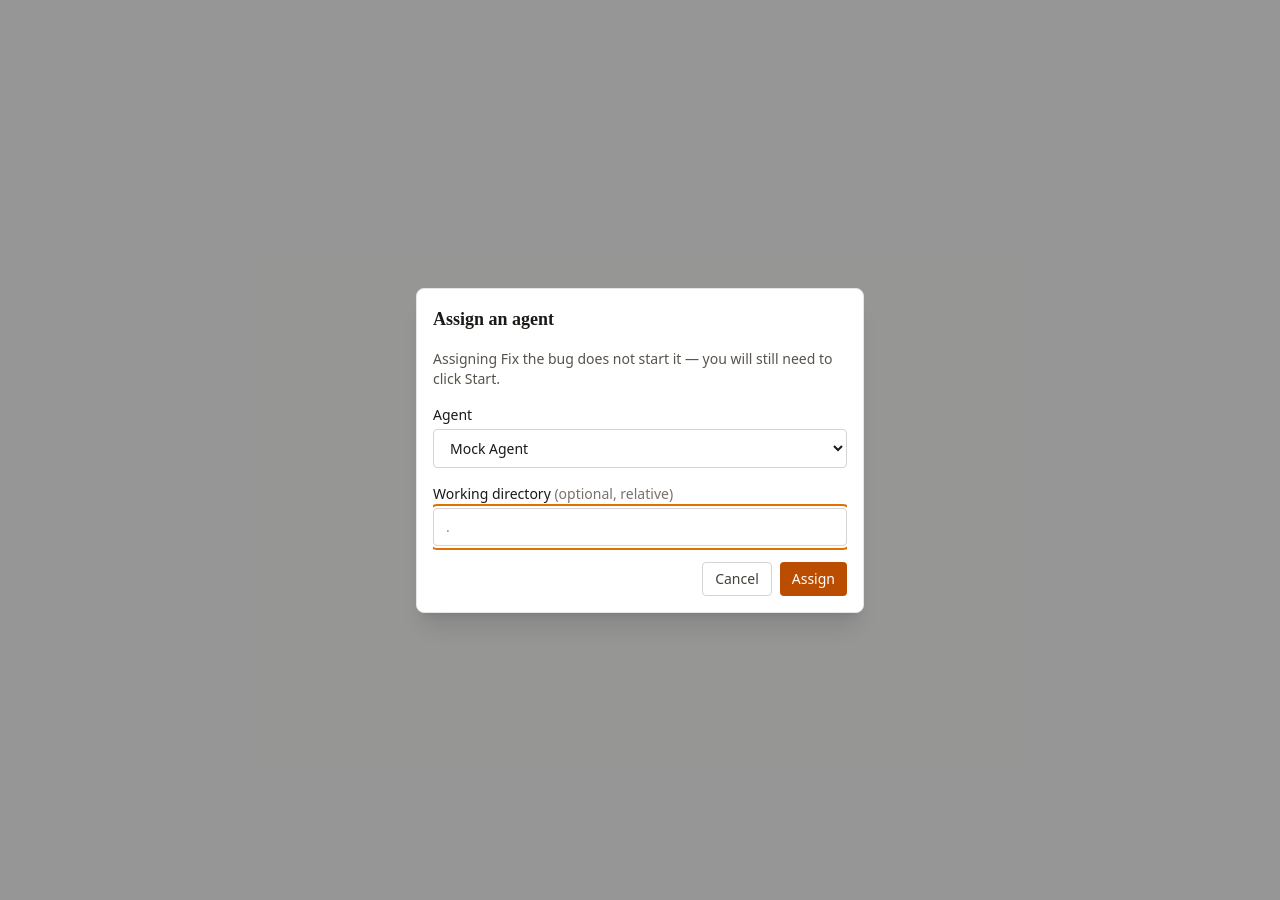
it: AssignDialog › on failure, preserves entered values and shows a safe error
Type "src" into the field labelled "Working directory (optional, relative)". click: (640, 526)
box: [433,508,847,546]
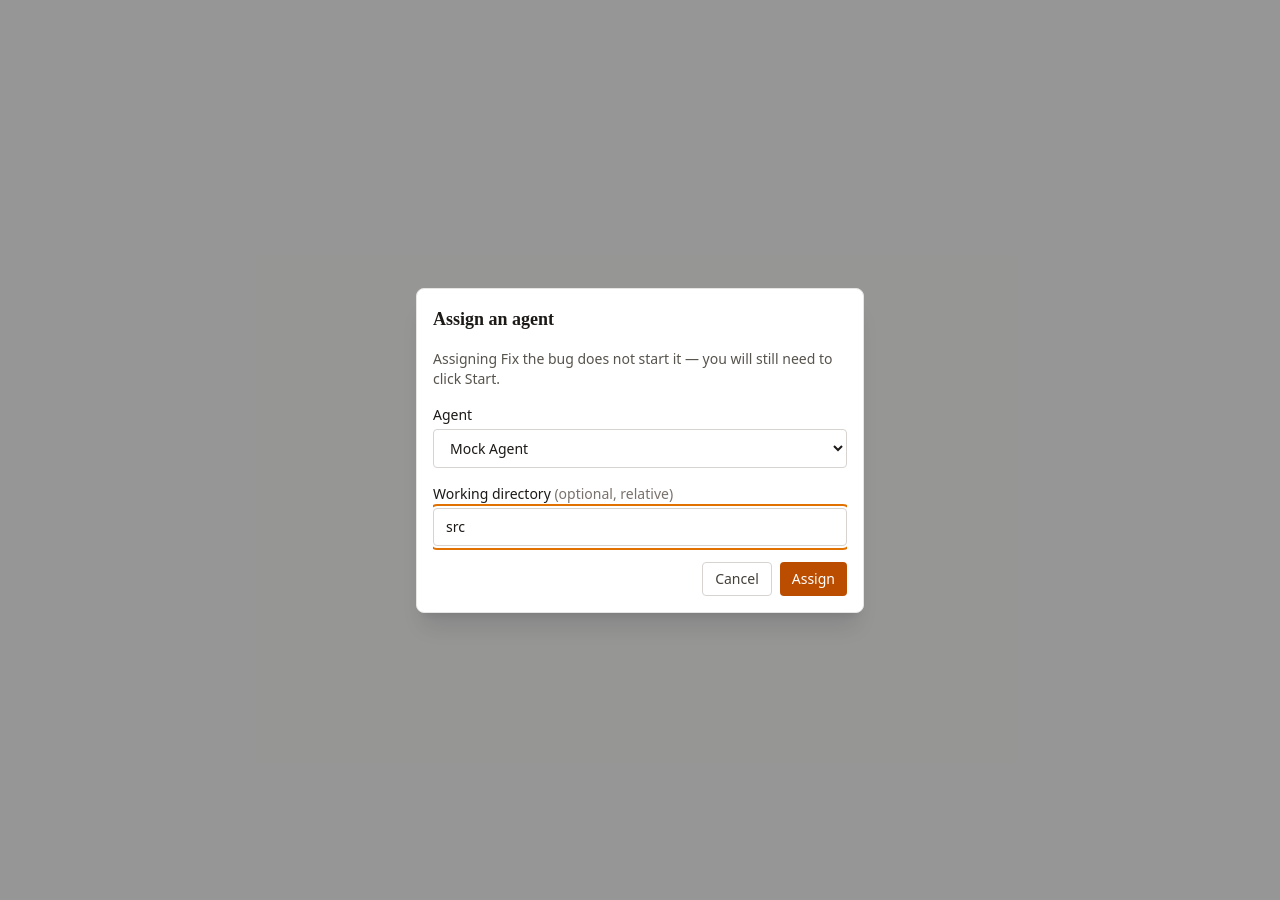
Click the button "Assign". click: (813, 578)
box: [780,562,847,596]
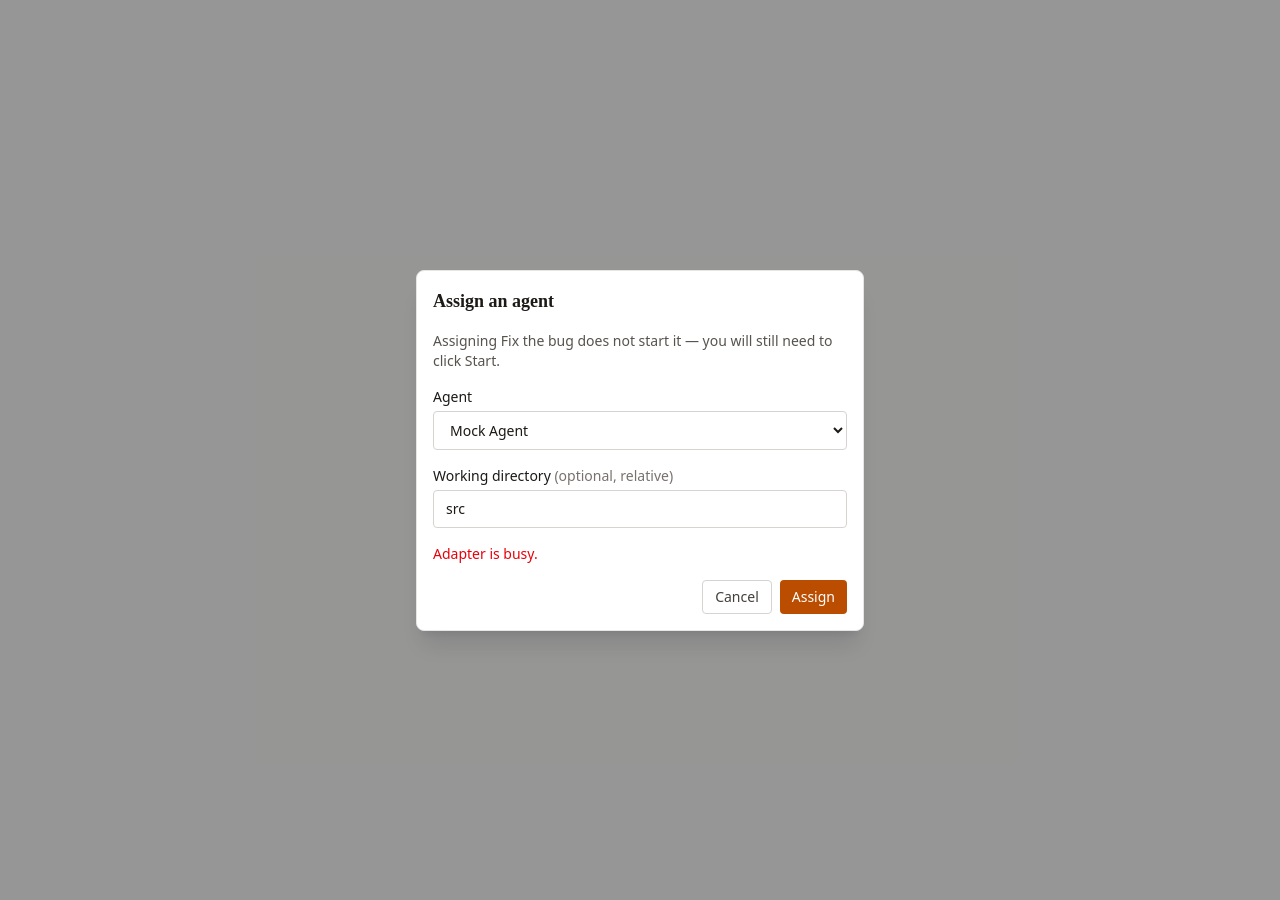
Result: the text "Adapter is busy." is shown at [433,544,538,562]
